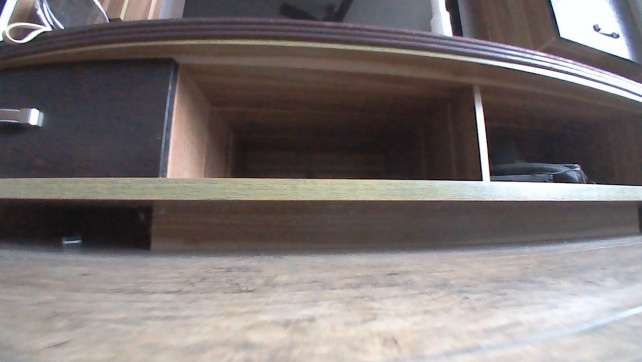TV_stand: (0, 14, 641, 255)
